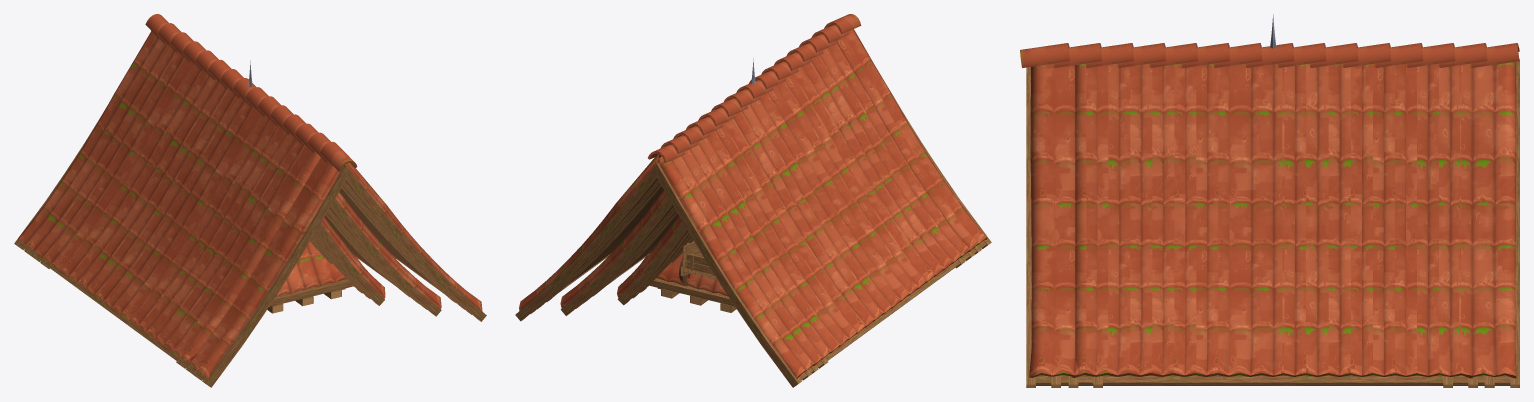
The model's file is gen-village.glb.
3 views of the same model, side by side, from view 1: azimuth 30°, elevation 25°; view 2: azimuth 150°, elevation 25°; view 3: azimuth 270°, elevation 25° (orthographic). The views are drawn at different scales.
Visible parts, largest first — view 1: Roof_RoundTiles_8x10, Roof_RoundTiles_8x8, Roof_RoundTiles_6x8, Roof_Tower_RoundTiles, Roof_RoundTiles_4x6, Roof_RoundTiles_6x6; view 2: Roof_RoundTiles_8x10, Roof_RoundTiles_8x8, Roof_RoundTiles_6x8, Roof_Tower_RoundTiles, Roof_RoundTiles_4x6, Prop_Wagon, Roof_RoundTiles_6x6; view 3: Roof_RoundTiles_8x10, Roof_RoundTiles_8x8.
Part boxes in pixels (x1,y1,x2,y2): Roof_RoundTiles_8x10: [14, 14, 486, 387]; Roof_RoundTiles_8x8: [30, 23, 464, 373]; Roof_RoundTiles_6x8: [327, 192, 441, 316]; Roof_Tower_RoundTiles: [248, 60, 361, 313]; Roof_RoundTiles_4x6: [313, 217, 385, 305]; Roof_RoundTiles_6x6: [324, 210, 418, 303]; Roof_RoundTiles_8x10: [515, 14, 991, 387]; Roof_RoundTiles_8x8: [537, 26, 974, 373]; Roof_RoundTiles_6x8: [560, 190, 674, 315]; Roof_Tower_RoundTiles: [641, 58, 755, 312]; Roof_RoundTiles_4x6: [617, 216, 689, 305]; Prop_Wagon: [679, 241, 721, 285]; Roof_RoundTiles_6x6: [583, 209, 678, 303]; Roof_RoundTiles_8x10: [1020, 43, 1519, 387]; Roof_RoundTiles_8x8: [1053, 43, 1486, 387].
Bounding box in the file's own units: 9.95 × 8.91 × 11.86.
Materials: 9 (8 with a texture image).
